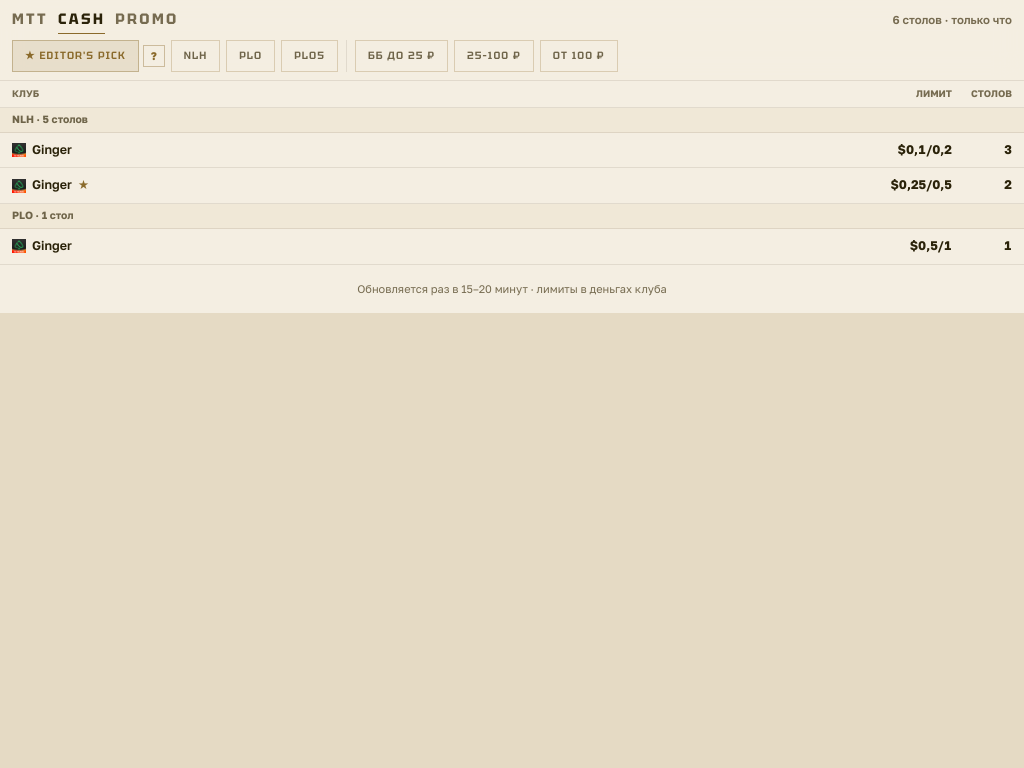
it: CashPage › лимиты по играм, фильтры и карточка с диплинком
expect the number of rows with test id "cash-row" is 3: met, box x1=0 y1=132 x2=1023 y2=168; x1=0 y1=168 x2=1023 y2=204; x1=0 y1=229 x2=1023 y2=265
expect the heading "CASH" is shown: met, box x1=58 y1=8 x2=105 y2=34
Step 1. Click the button "PLO" → coordinates (251, 56), box x1=226 y1=40 x2=275 y2=72
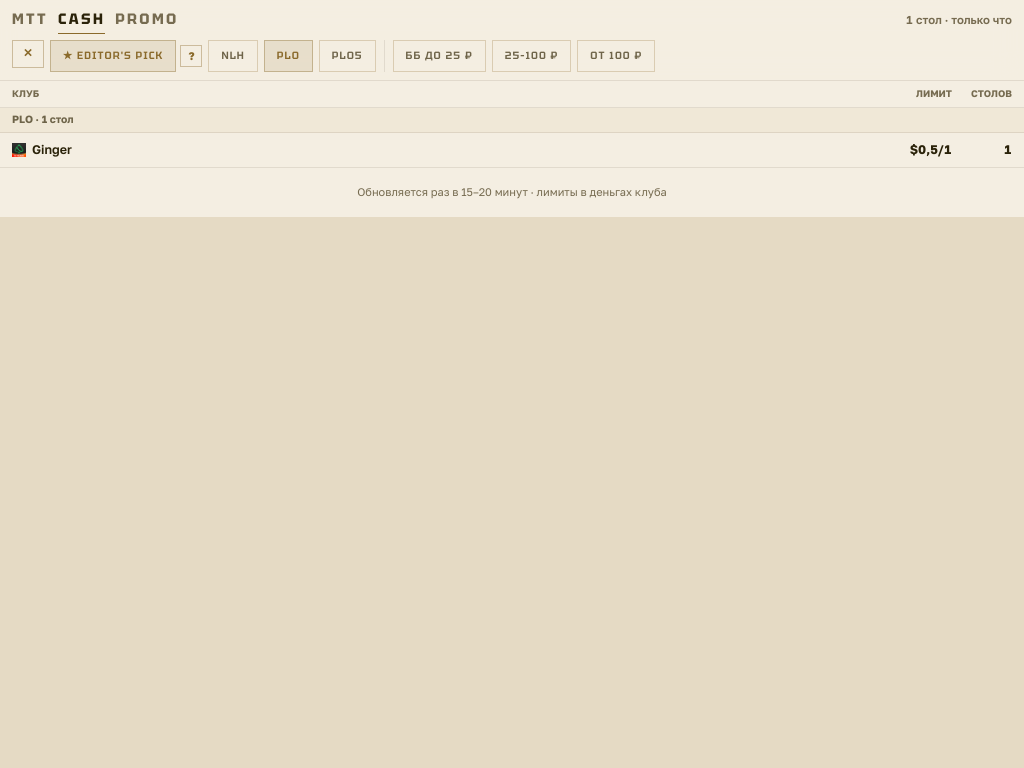
expect the number of rows with test id "cash-row" is 1: met, box x1=0 y1=132 x2=1023 y2=168
Step 2. Click the button named "Сбросить фильтры" → coordinates (28, 54), box x1=12 y1=40 x2=44 y2=68
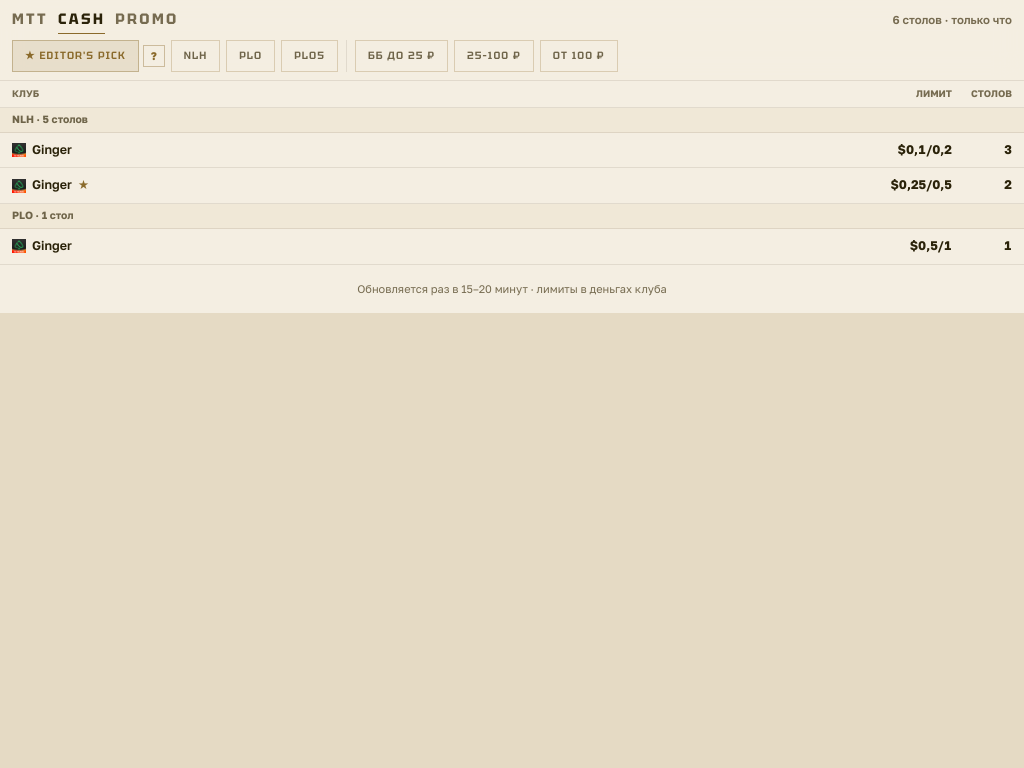
Step 3. Click the button "★ Editor's Pick" → coordinates (75, 56), box x1=12 y1=40 x2=139 y2=72
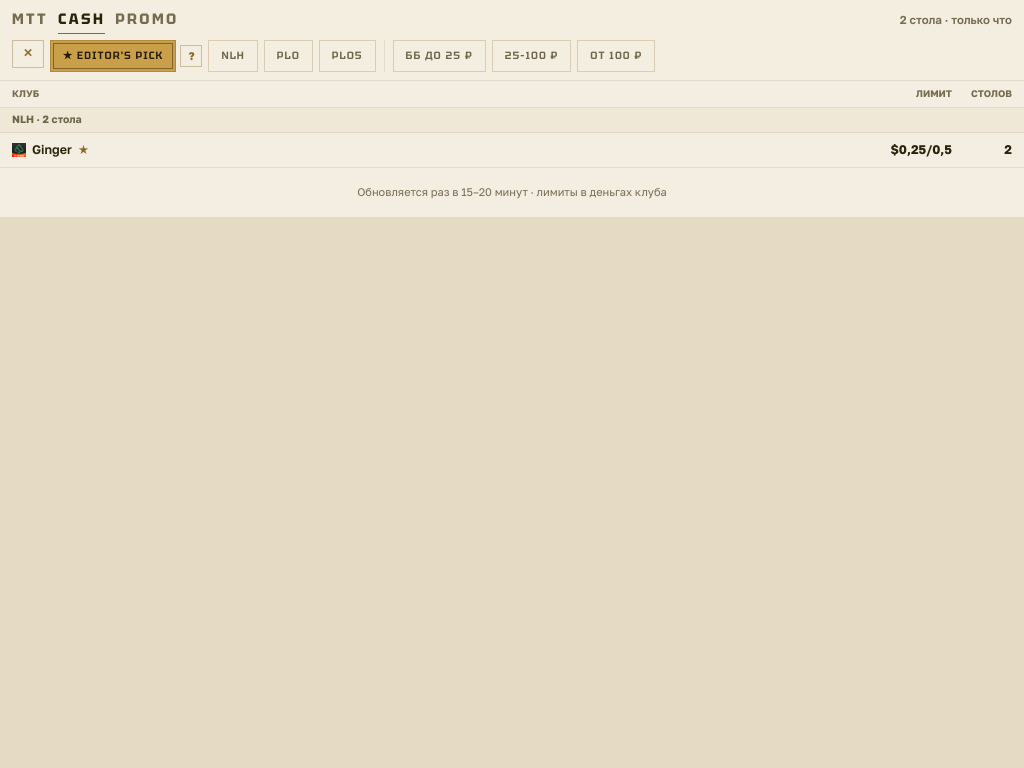
expect the number of rows with test id "cash-row" is 1: met
Step 4. Click the row with test id "cash-row" → coordinates (512, 150), box x1=0 y1=132 x2=1023 y2=168
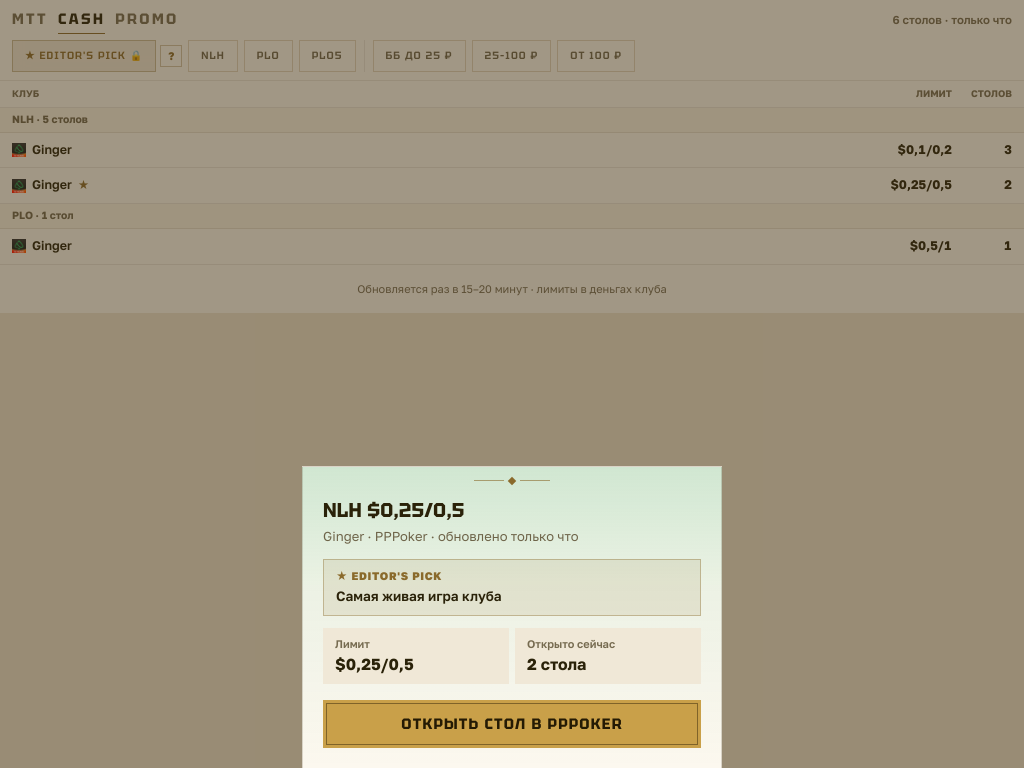
expect the text "2 стола" is shown: met, box x1=527 y1=654 x2=586 y2=674
expect the text "Самая живая игра клуба" is shown: met, box x1=336 y1=588 x2=502 y2=604
expect the button "Открыть стол в PPPoker" is shown: met, box x1=323 y1=700 x2=701 y2=748
